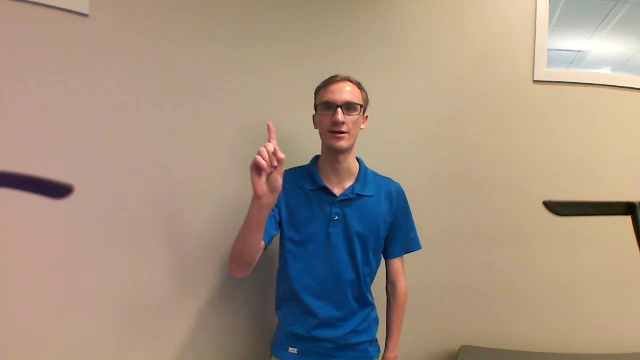up: (242, 115, 293, 205)
